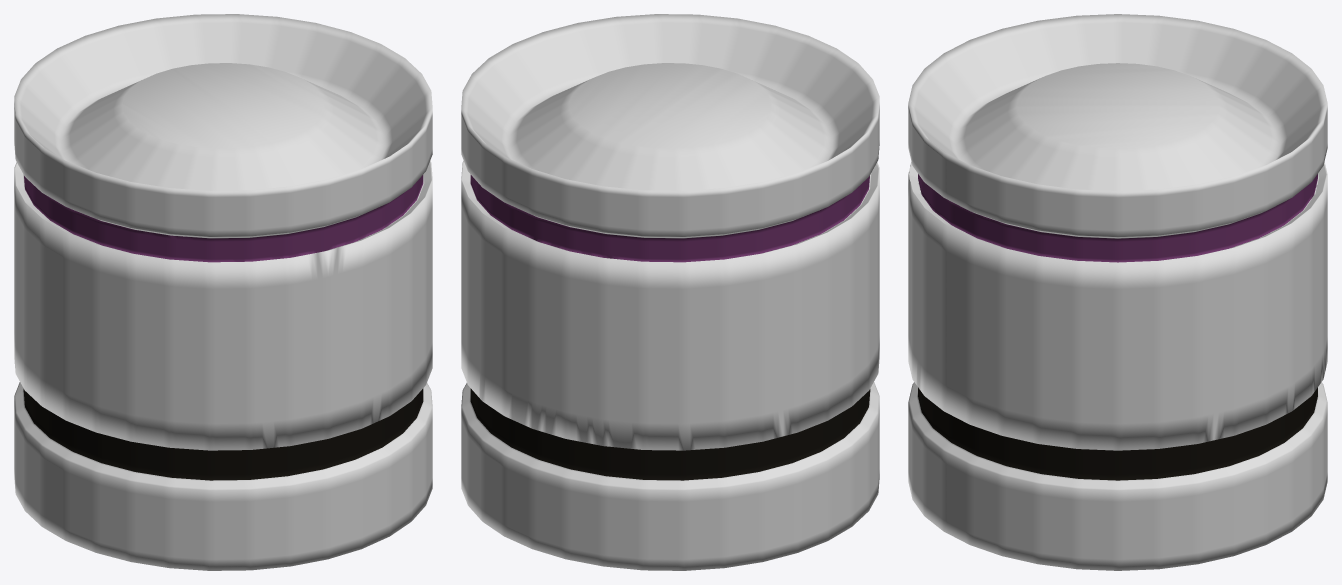
File: Proto4.glb
3 views of the same model, side by side, from view 1: azimuth 30°, elevation 25°; view 2: azimuth 150°, elevation 25°; view 3: azimuth 270°, elevation 25° (orthographic).
Parts seen in each view (by area): view 1: Cylindre.001; view 2: Cylindre.001; view 3: Cylindre.001.
Boxes of the visible parts, box(x1,y1,x2,y2) form: Cylindre.001: box(14, 14, 432, 570); Cylindre.001: box(461, 14, 879, 570); Cylindre.001: box(908, 14, 1327, 570).
Bounding box in the file's own units: 1.66 × 1.66 × 1.66.
